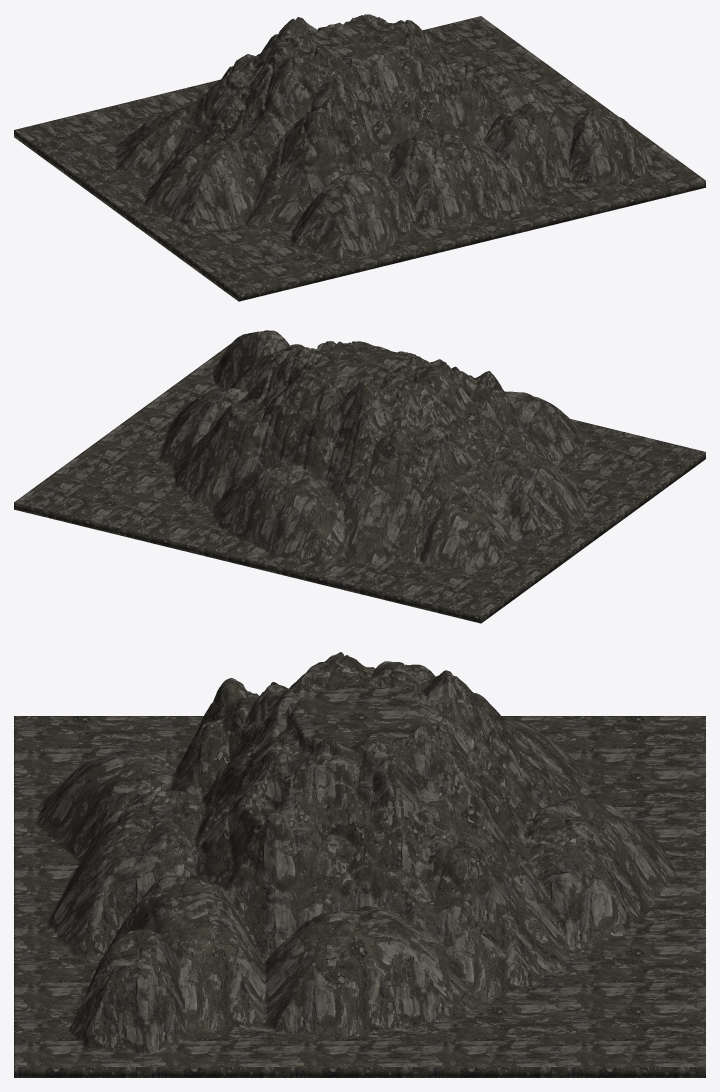
Rendered from atlantic-lighthouse-rock.glb.
3 renders of one model, top to bottom at view 1: azimuth 30°, elevation 25°; view 2: azimuth 150°, elevation 25°; view 3: azimuth 270°, elevation 25°, orthographic. The views are drawn at different scales.
Visible parts, largest first — view 1: atlantic-lighthouse-rock/Fractured rock island; view 2: atlantic-lighthouse-rock/Fractured rock island; view 3: atlantic-lighthouse-rock/Fractured rock island.
Boxes of the visible parts, x1=… form: atlantic-lighthouse-rock/Fractured rock island: x1=14, y1=14, x2=705, y2=301; atlantic-lighthouse-rock/Fractured rock island: x1=14, y1=330, x2=705, y2=623; atlantic-lighthouse-rock/Fractured rock island: x1=14, y1=652, x2=705, y2=1077.
Bounding box in the file's own units: 24 × 6.48 × 20.
1 material, 1 textured.
